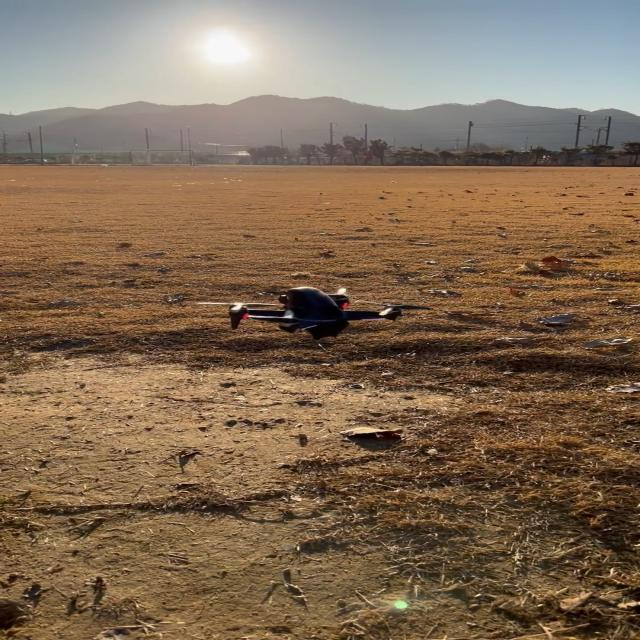Drone: (225, 287, 402, 337)
